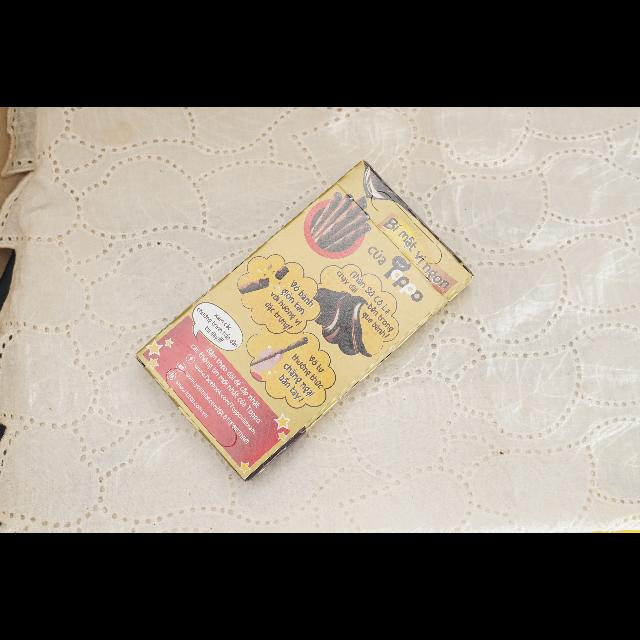banh_toppo_socola: (136, 161, 472, 480)
